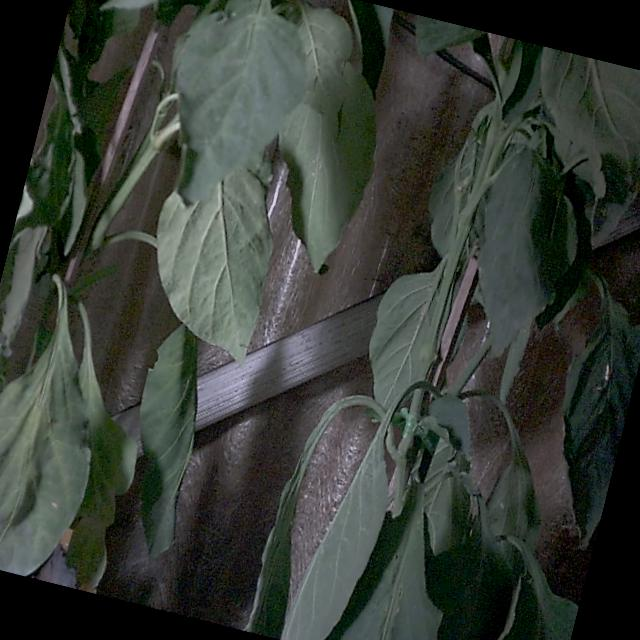Leaf: (0, 277, 89, 574), (175, 0, 304, 201), (157, 168, 272, 361), (563, 295, 639, 545), (478, 149, 569, 356), (339, 484, 441, 639), (139, 326, 197, 559), (368, 271, 437, 408), (101, 0, 154, 9)
